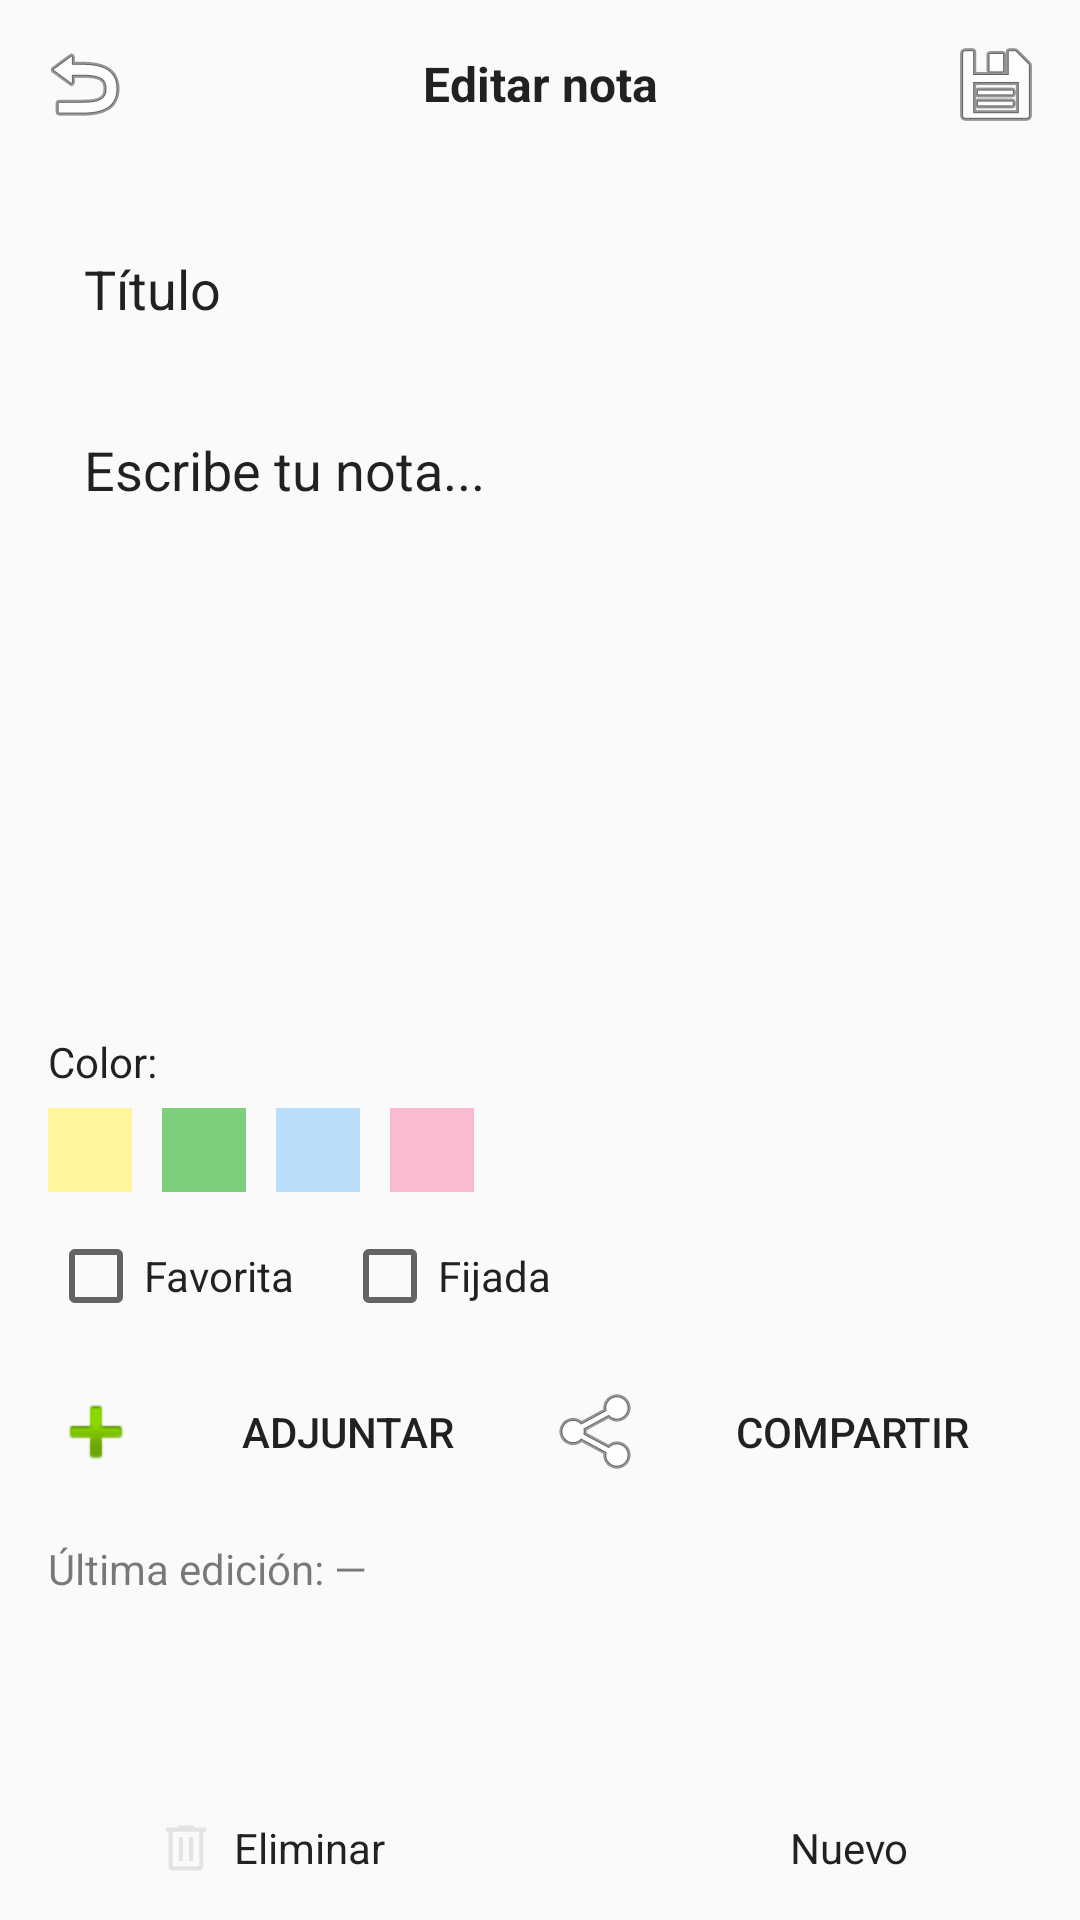

Icon click points for this 1080px×1920px phone screenshot, format [x,y]:
Atrás: [85,84]
Guardar: [996,84]
